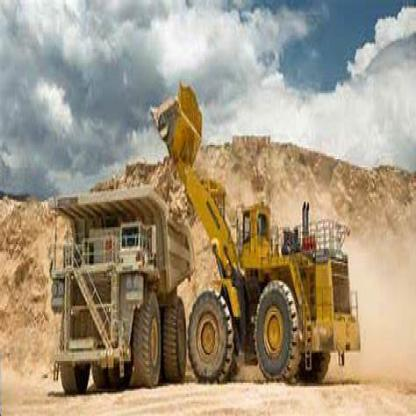dump_truck: (51, 180, 204, 402)
